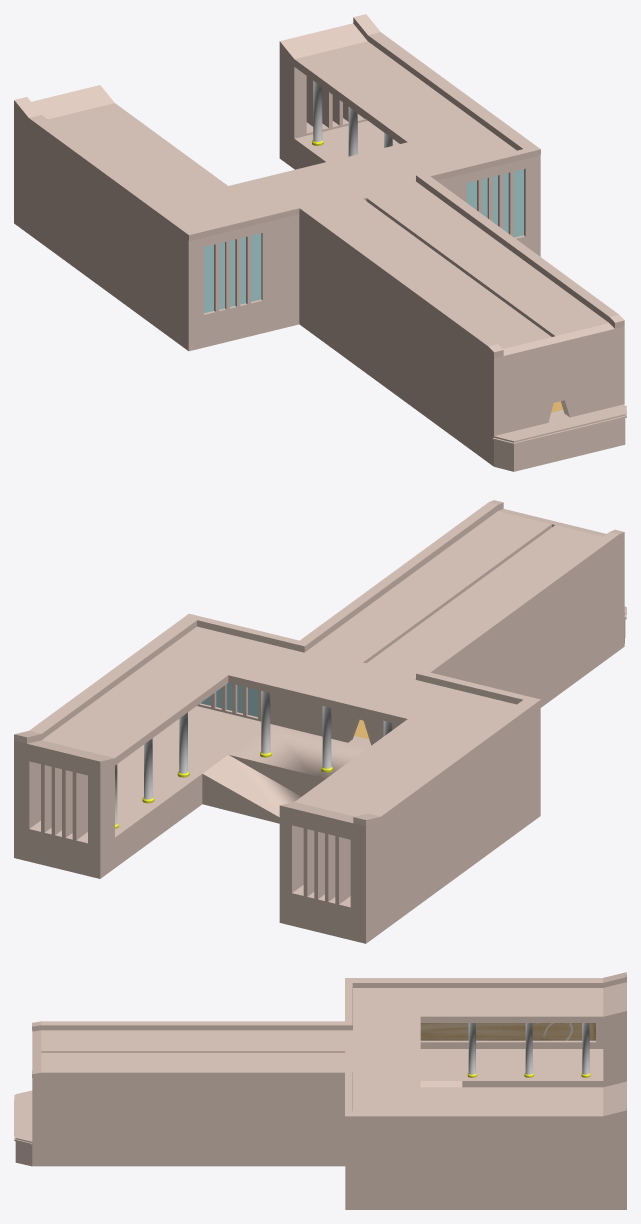
Rendered from TempleEntry.fbx.
The picture shows the model from 3 angles, top to bottom: view 1: azimuth 30°, elevation 25°; view 2: azimuth 150°, elevation 25°; view 3: azimuth 270°, elevation 25°; orthographic projection. The views are drawn at different scales.
Parts seen in each view (by area): view 1: TempleEntry, templentry_pillars.001; view 2: TempleEntry, templentry_pillars, templentry_pillars.001; view 3: TempleEntry, templentry_pillars.002.
Boxes of the visible parts, box(x1,y1,x2,y2) form: TempleEntry: box(14, 14, 626, 471); templentry_pillars.001: box(312, 81, 392, 156); TempleEntry: box(14, 500, 626, 943); templentry_pillars: box(260, 691, 392, 772); templentry_pillars.001: box(115, 712, 189, 828); TempleEntry: box(14, 972, 626, 1209); templentry_pillars.002: box(467, 1023, 590, 1077).
Bounding box in the file's own units: 520 × 176 × 974.
